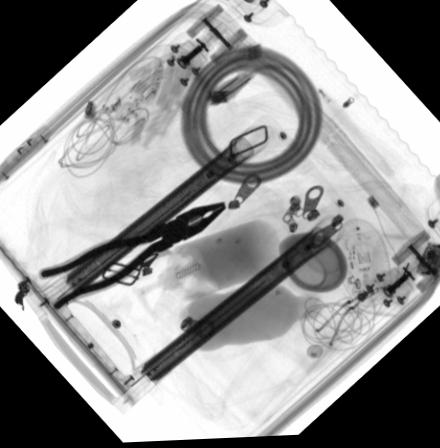Pliers: (39, 202, 224, 311)
